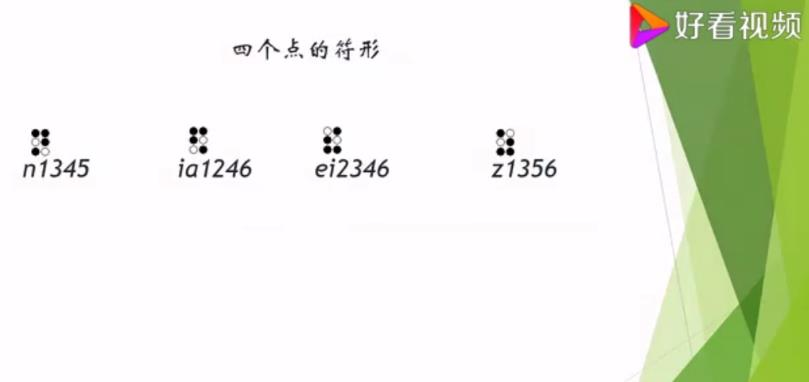Braille: (30, 128, 51, 158), (322, 126, 343, 155), (189, 126, 209, 155), (496, 128, 516, 157)
